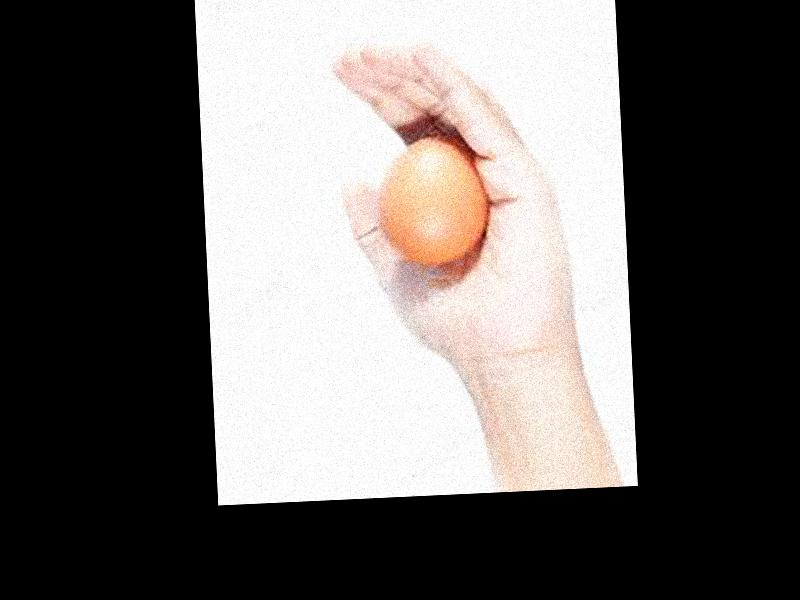Eggs: (376, 136, 487, 265)
